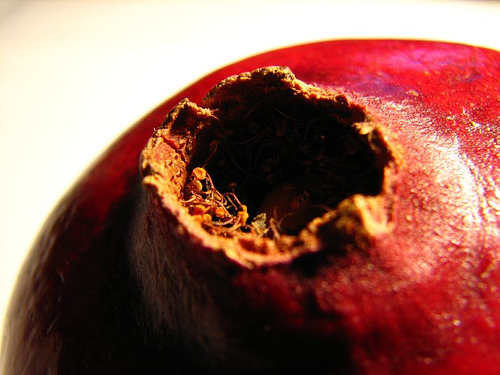pomogranate: (1, 37, 499, 374)
